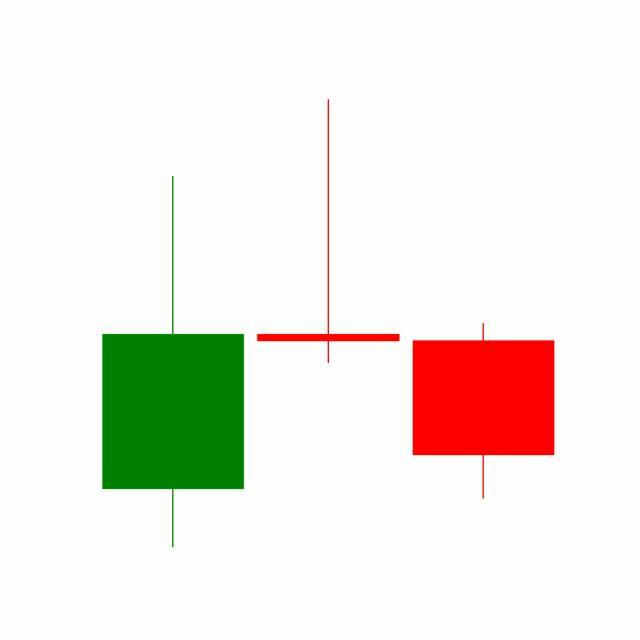Spinning Top: (250, 97, 407, 367)
